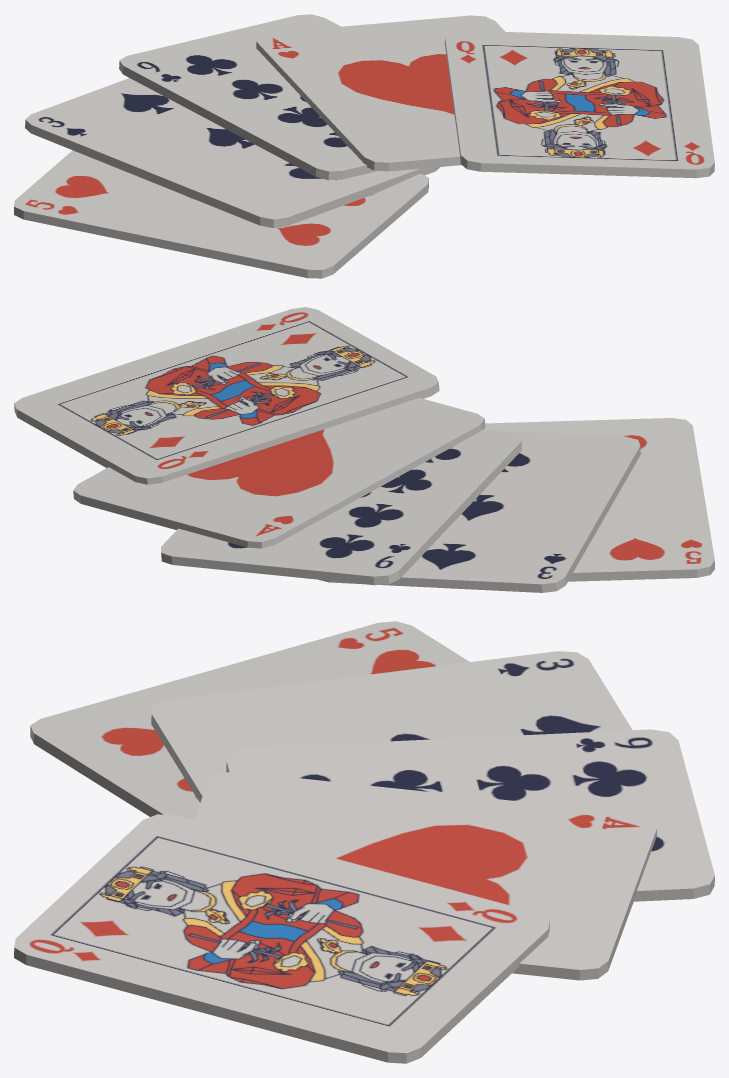
Rendered from SM_Item_Playing_Card_Hand_05.fbx.
3 views of the same model, one above another, from view 1: azimuth 30°, elevation 25°; view 2: azimuth 150°, elevation 25°; view 3: azimuth 270°, elevation 25° (orthographic). The views are drawn at different scales.
Parts seen in each view (by area): view 1: SM_Item_Playing_Card_Hand_05; view 2: SM_Item_Playing_Card_Hand_05; view 3: SM_Item_Playing_Card_Hand_05.
Part boxes in pixels (left/top/right/bottom): SM_Item_Playing_Card_Hand_05: left=14, top=14, right=714, bottom=278; SM_Item_Playing_Card_Hand_05: left=14, top=307, right=714, bottom=592; SM_Item_Playing_Card_Hand_05: left=14, top=621, right=714, bottom=1063.
Size of the model in its own units: 36.14 by 1.87 by 24.98.
